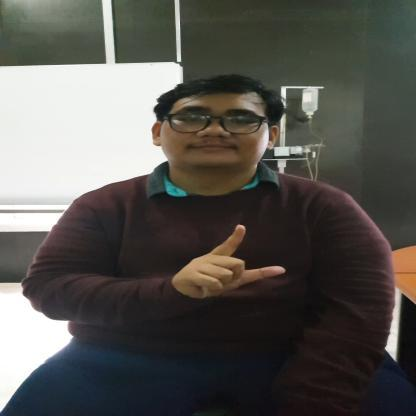L: (166, 222, 290, 303)
